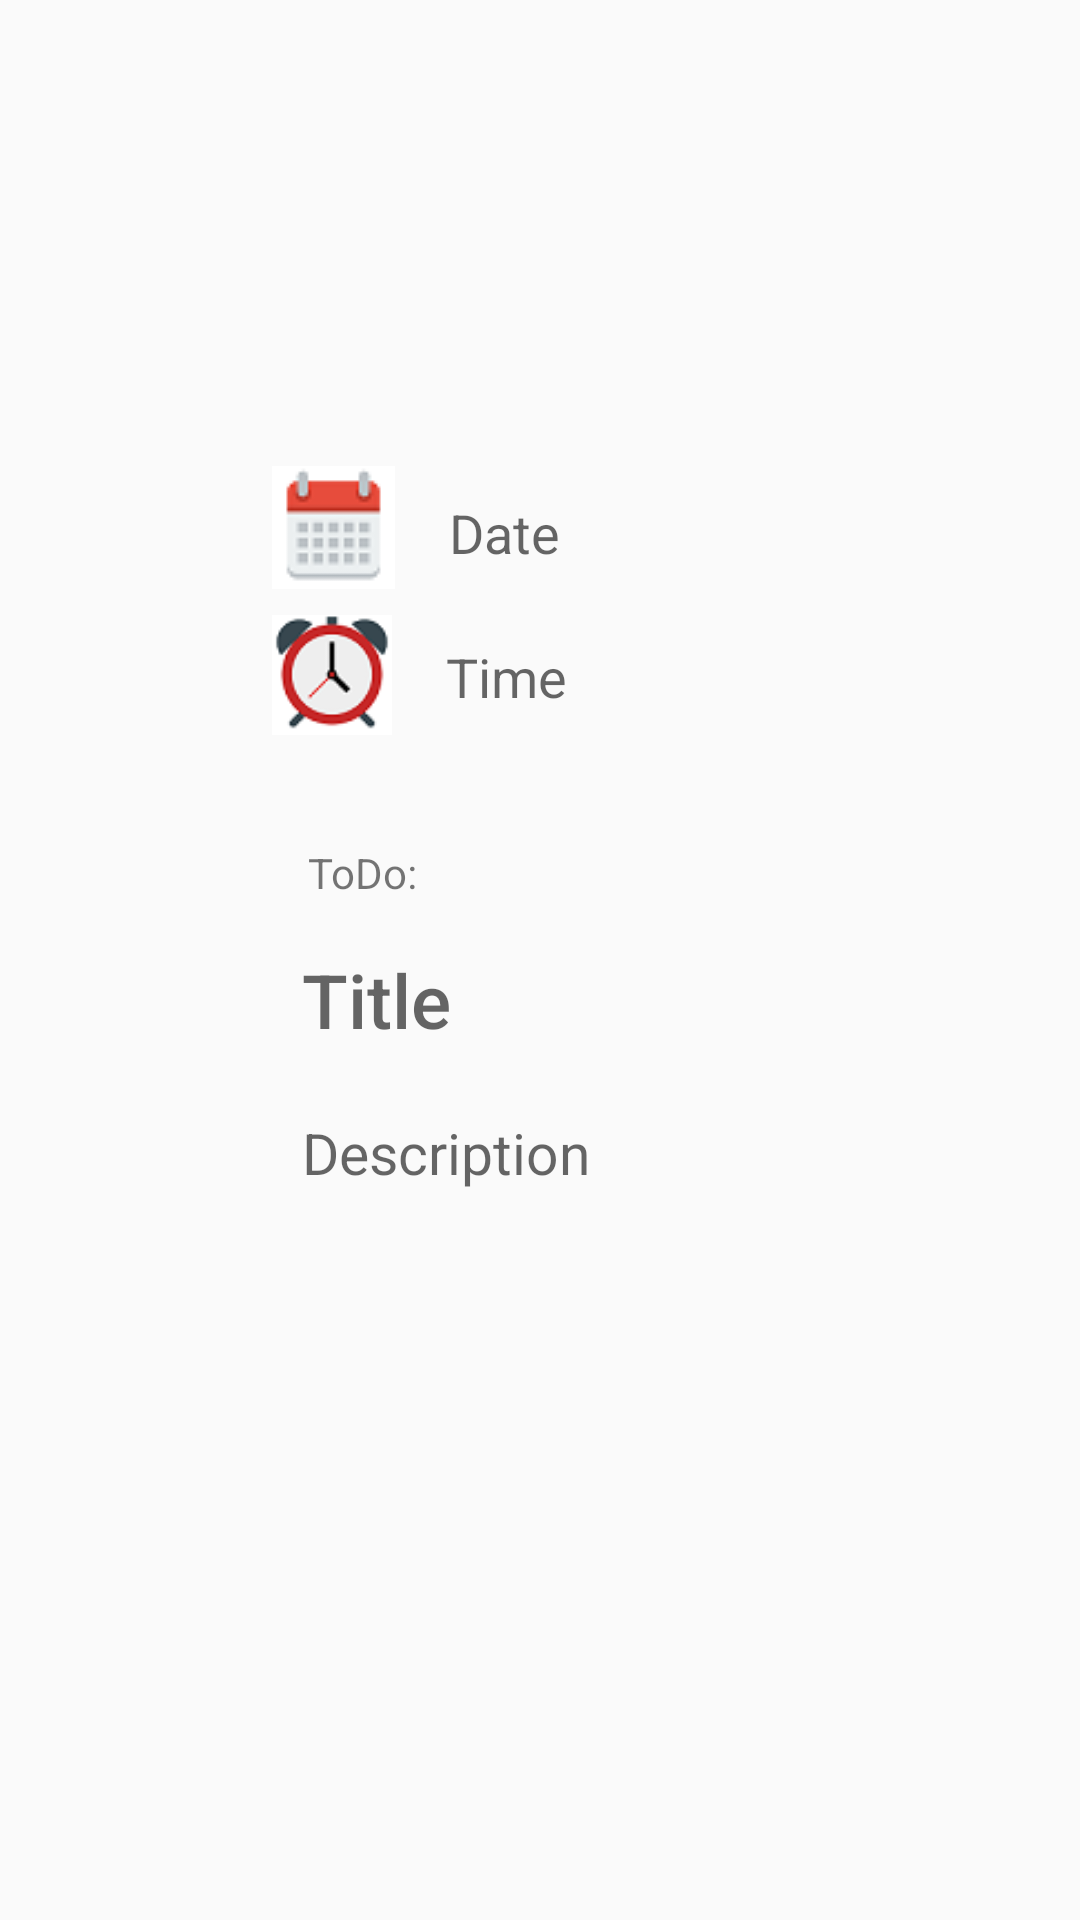

Screen size 1080*1920. Icon name, then its box in pixels as (x1, y1, x2, y2):
calendar: (286, 471, 381, 580)
clock: (275, 616, 389, 729)
